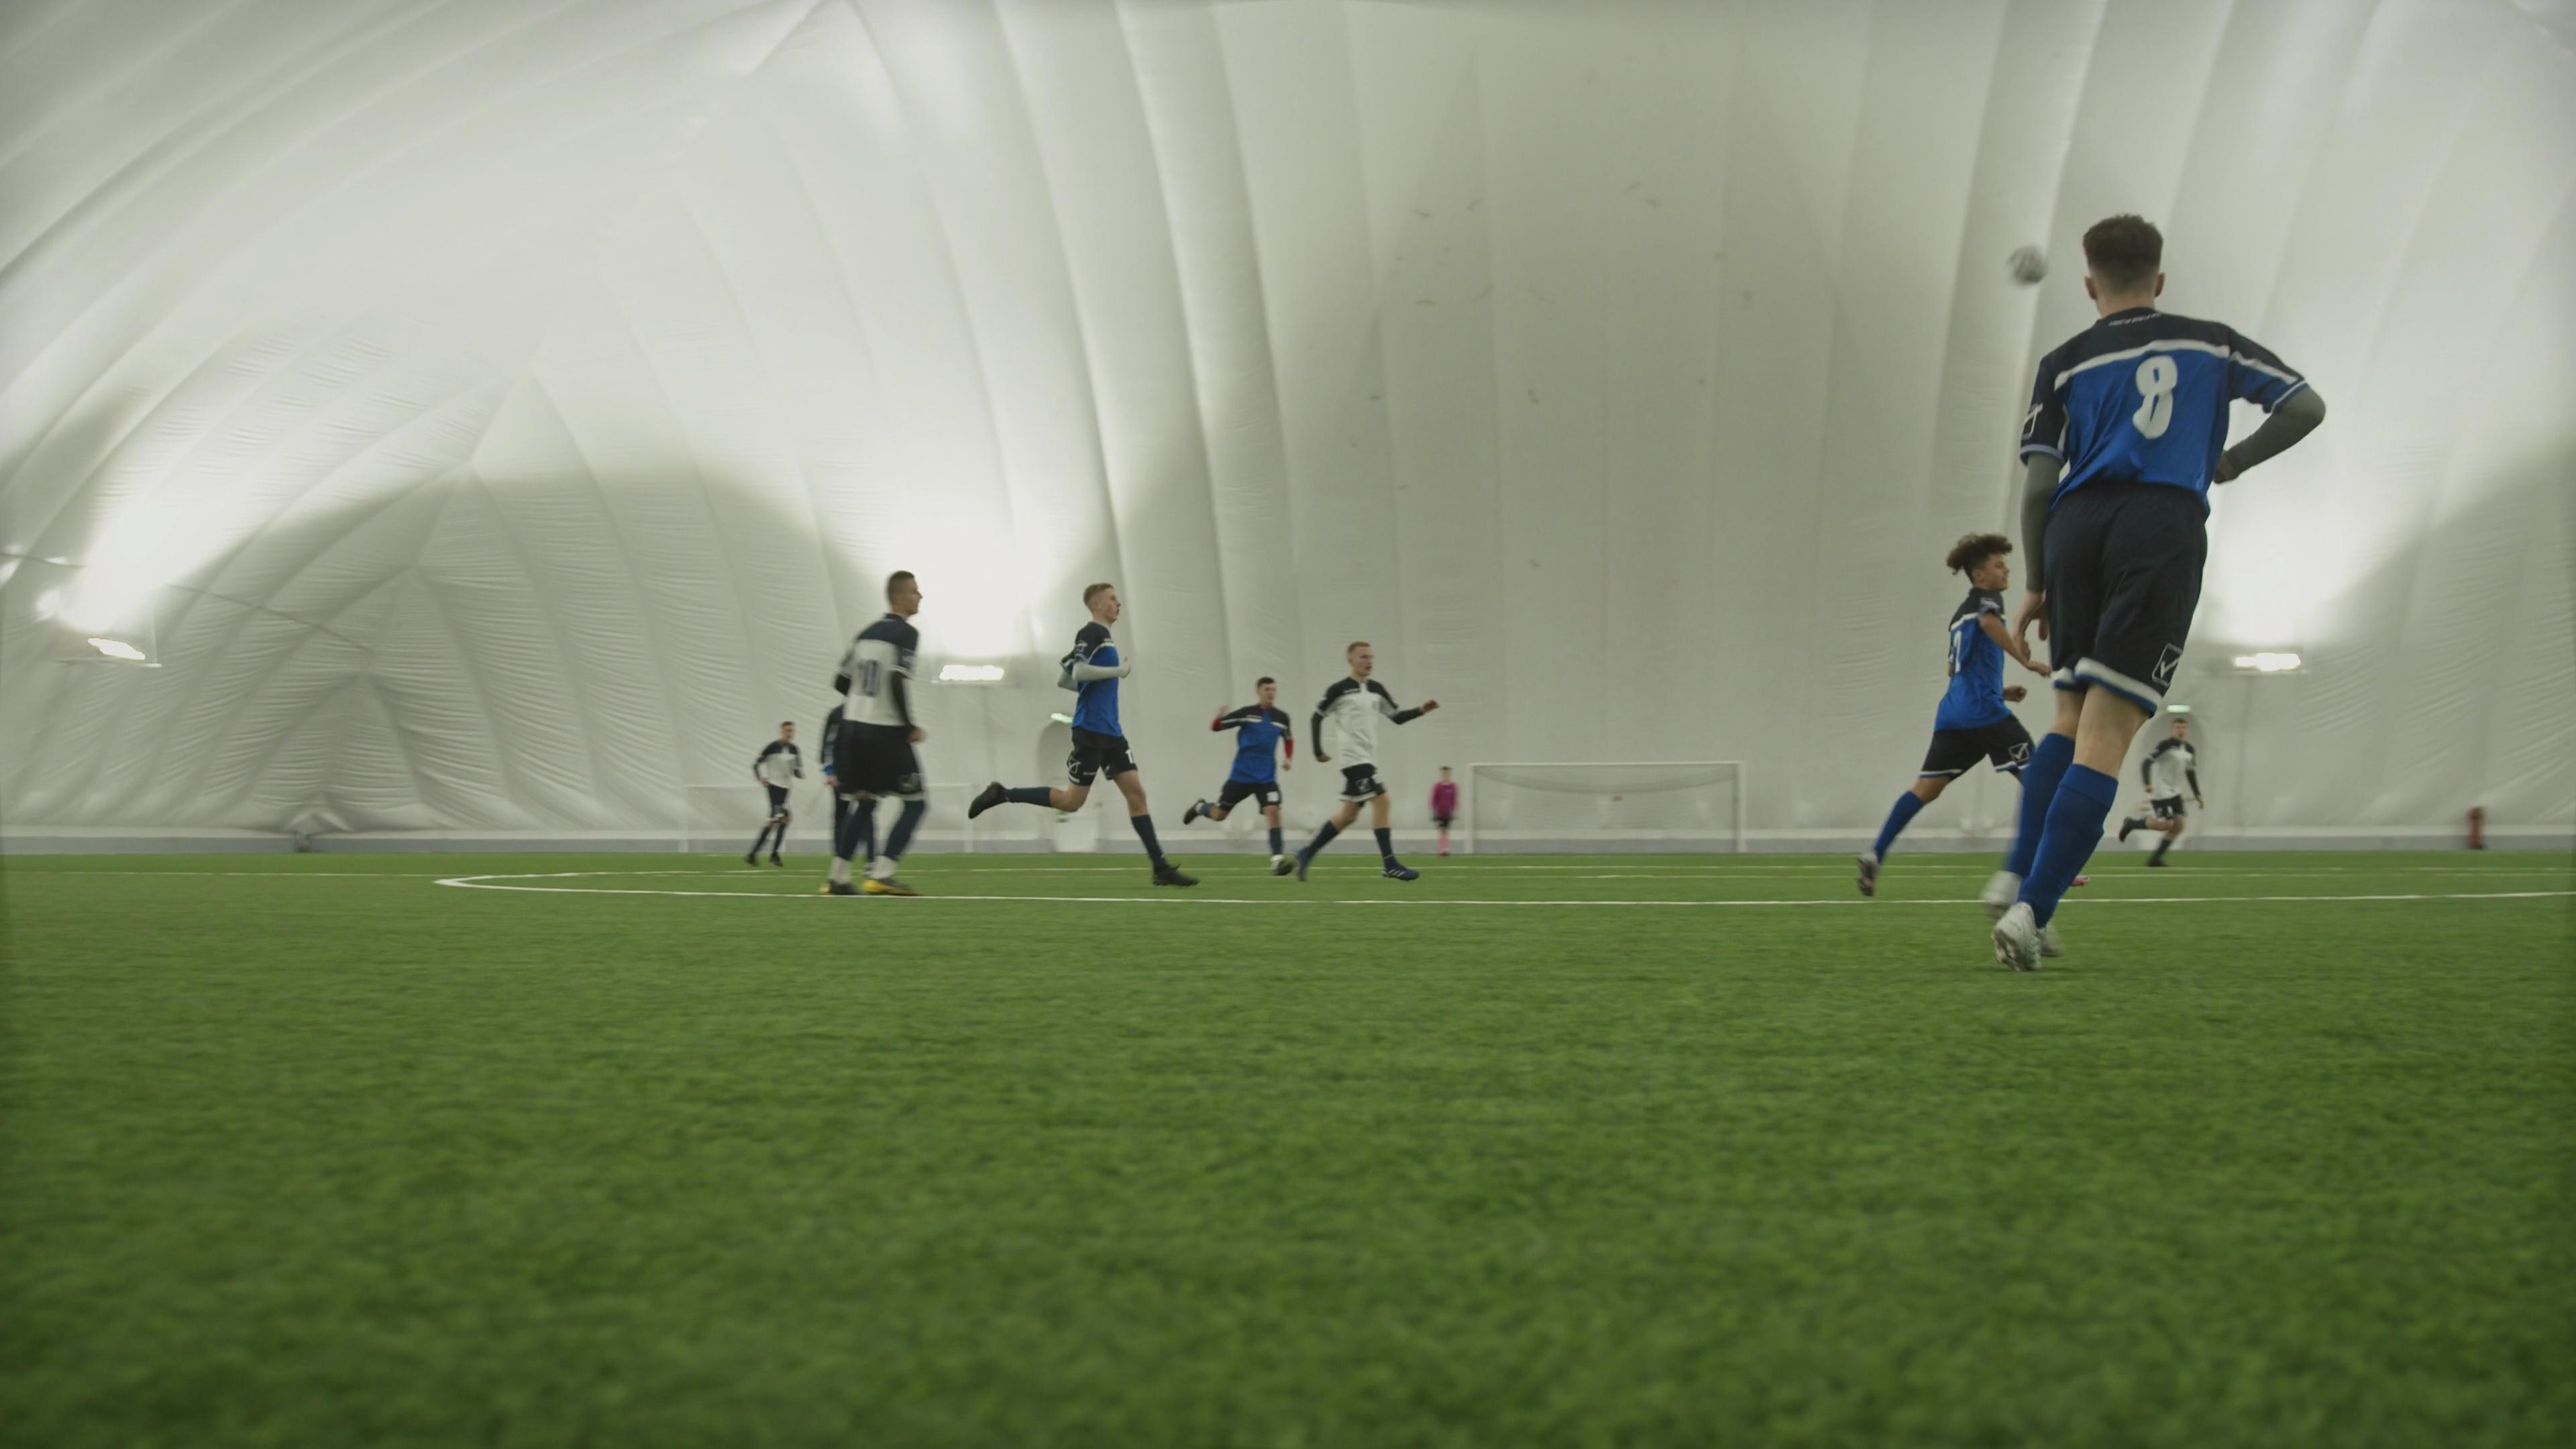team1: (1980, 214, 2327, 978), (1858, 533, 2058, 899), (970, 584, 1198, 890), (1191, 678, 1295, 846)
team1gk: (1430, 763, 1456, 847)
team2: (814, 568, 936, 901), (1293, 637, 1438, 886), (2121, 713, 2203, 865), (745, 720, 805, 872)
